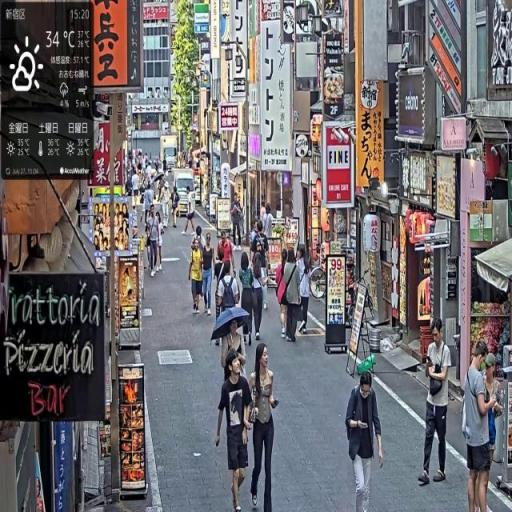person: (463, 340, 501, 512), (216, 350, 255, 512), (419, 317, 452, 489), (346, 367, 385, 512), (247, 342, 280, 512), (201, 231, 216, 318), (190, 234, 205, 316), (147, 207, 160, 276), (183, 188, 197, 239)
